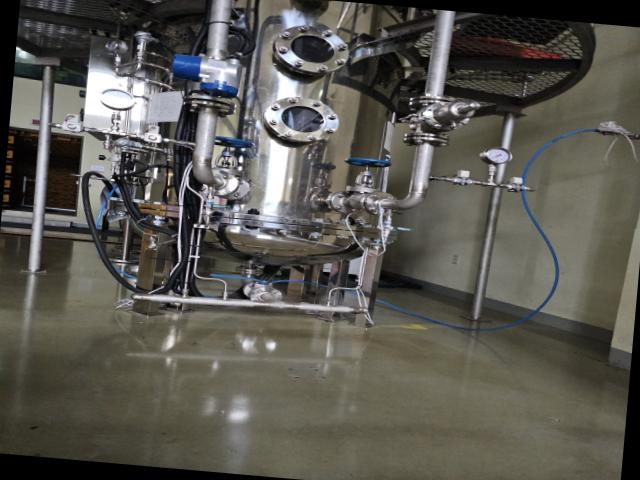Flange: (270, 22, 352, 78), (261, 93, 342, 147)
Flush Ring: (188, 167, 252, 202), (181, 94, 236, 118), (360, 189, 400, 217), (241, 280, 283, 304), (402, 130, 451, 149), (326, 189, 362, 214), (408, 93, 455, 111)
GasRegulator: (102, 27, 177, 90)
Nuts: (60, 120, 86, 134), (140, 130, 166, 144), (448, 175, 472, 186), (506, 182, 528, 194)
Piston Valve: (340, 156, 392, 197), (211, 136, 254, 178)
Pressure Gage: (95, 86, 136, 133), (477, 145, 512, 184)
